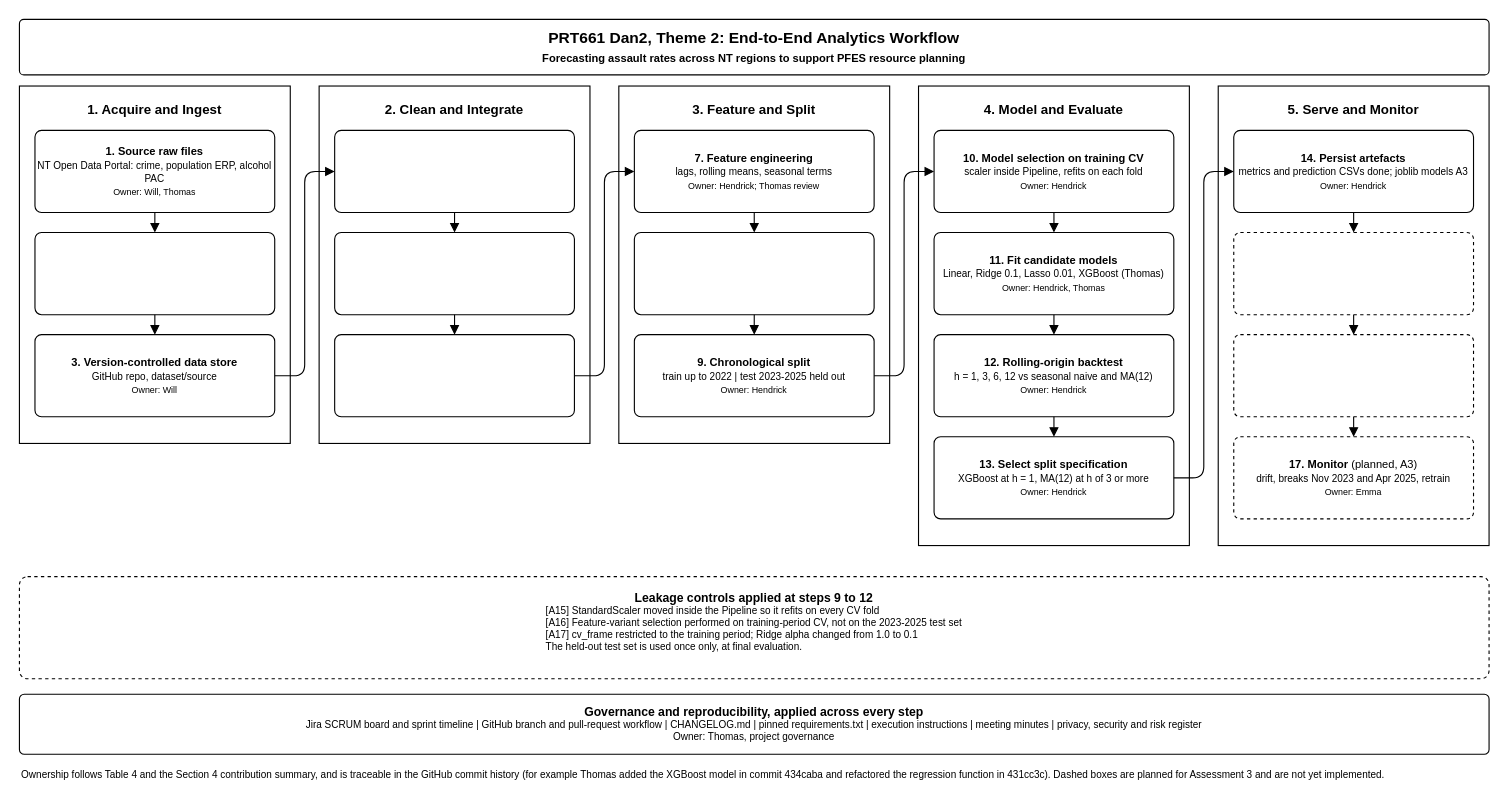
Some shapes in this 1508 by 807 pixel diagram are drawn without their labels. The centre of each missing label's shape, as x and y in pixels:
"15. Streamlit dashboard (planned, A3) forecast view for PFES Owner: Thomas" goes at (1353,273).
"16. Deploy (planned, A3) Streamlit Community Cloud Owner: Thomas" goes at (1353,375).
"2. Ingest and validate schema pandas; dtype, region and date checks Owner: Will" goes at (154,273).
"4. Clean and harmonise region names, date parsing, missing values Owner: Emma" goes at (454,171).
"5. Align temporal grain annual ERP and quarterly PAC to monthly Owner: Emma" goes at (454,273).
"6. Build monthly region panel assault rate per 100,000 residents Owner: Emma" goes at (454,375).
"8. Assemble feature variants V1 to V4 Owner: Hendrick" goes at (753,273).
